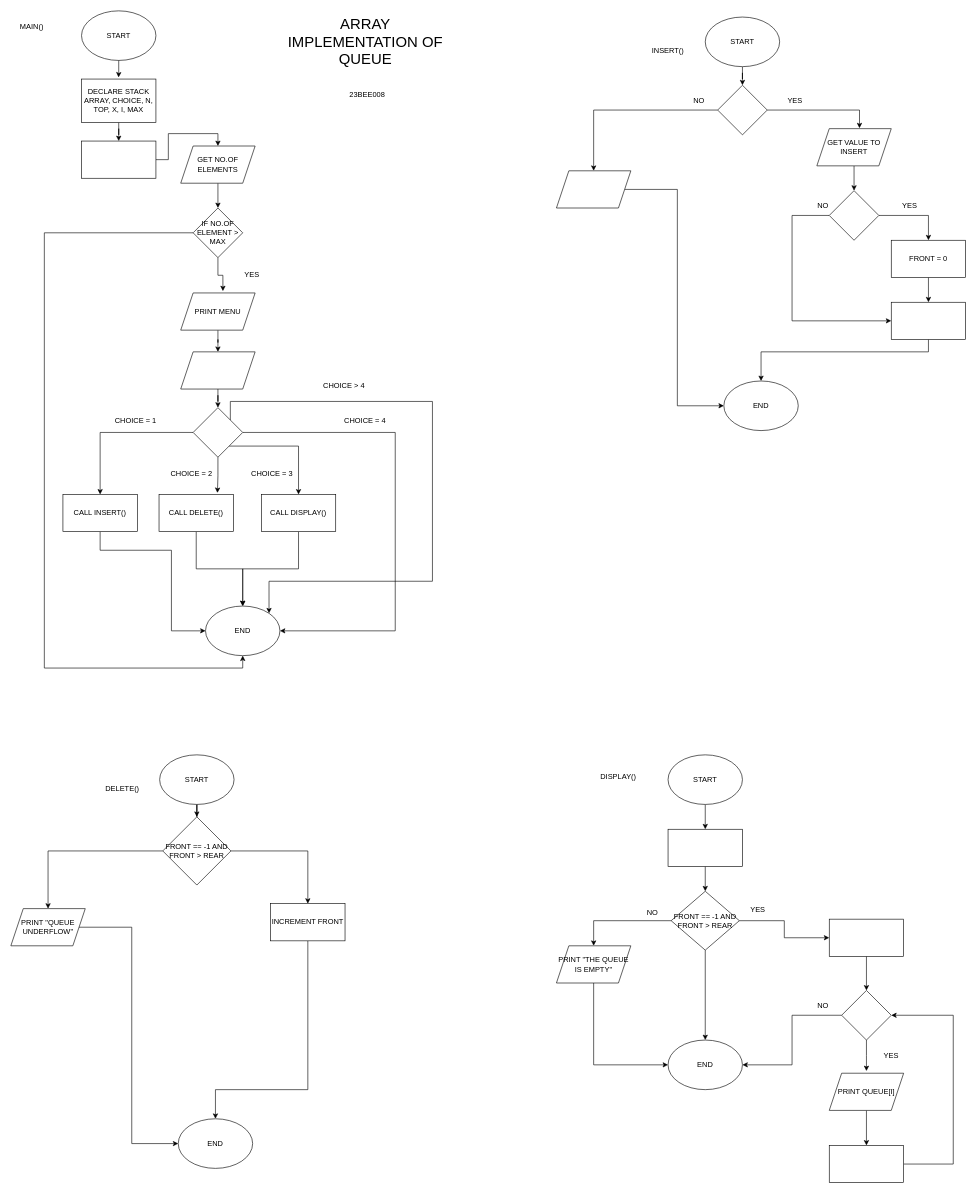
This 977x1194 diagram has some shape labels left out. The centre of each missing label's shape, as x and y in pixels:
CHECK CHOICE: (x=218, y=432)
DECLARE I = 0: (x=704, y=847)
GET CHOICE: (x=217, y=370)
I <= REAR: (x=866, y=1015)
I = FRONT: (x=866, y=937)
IF FRONT == -1: (x=854, y=215)
IF REAR >= N-1: (x=742, y=110)
INCREMENT I: (x=866, y=1164)
INCREMENT REAR QUEUE[REAR] = VALUE: (x=928, y=320)
PRINT "QUEUE OVERFLOW": (x=593, y=189)
TOP = -1: (x=118, y=159)
